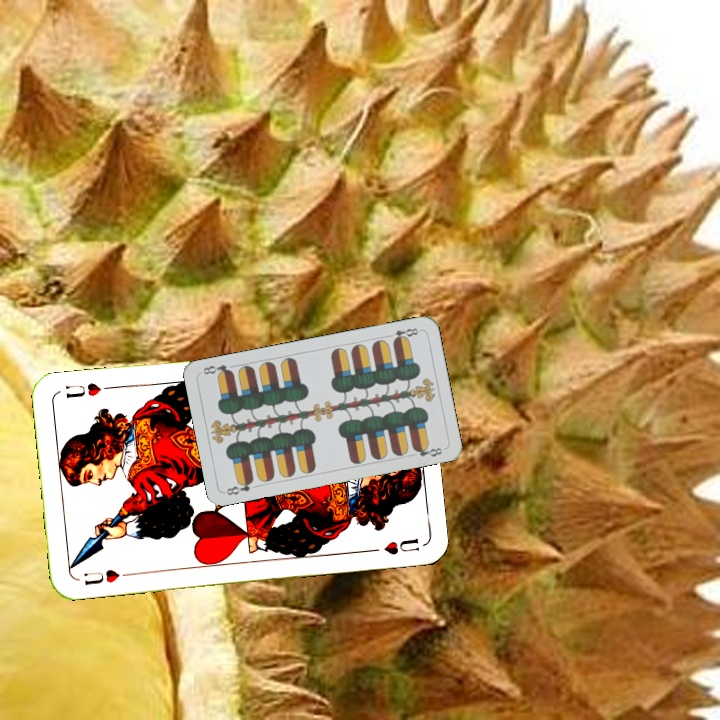E8: (383, 324, 421, 345), (222, 475, 256, 498)
HU: (80, 565, 134, 588)
